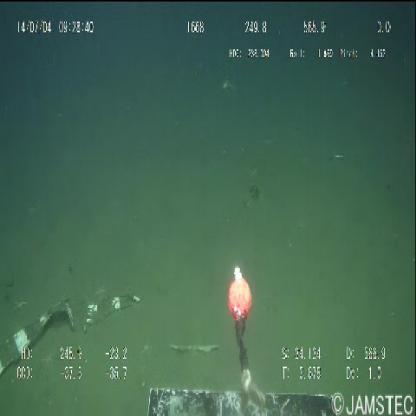Rác: (0, 294, 136, 378)
